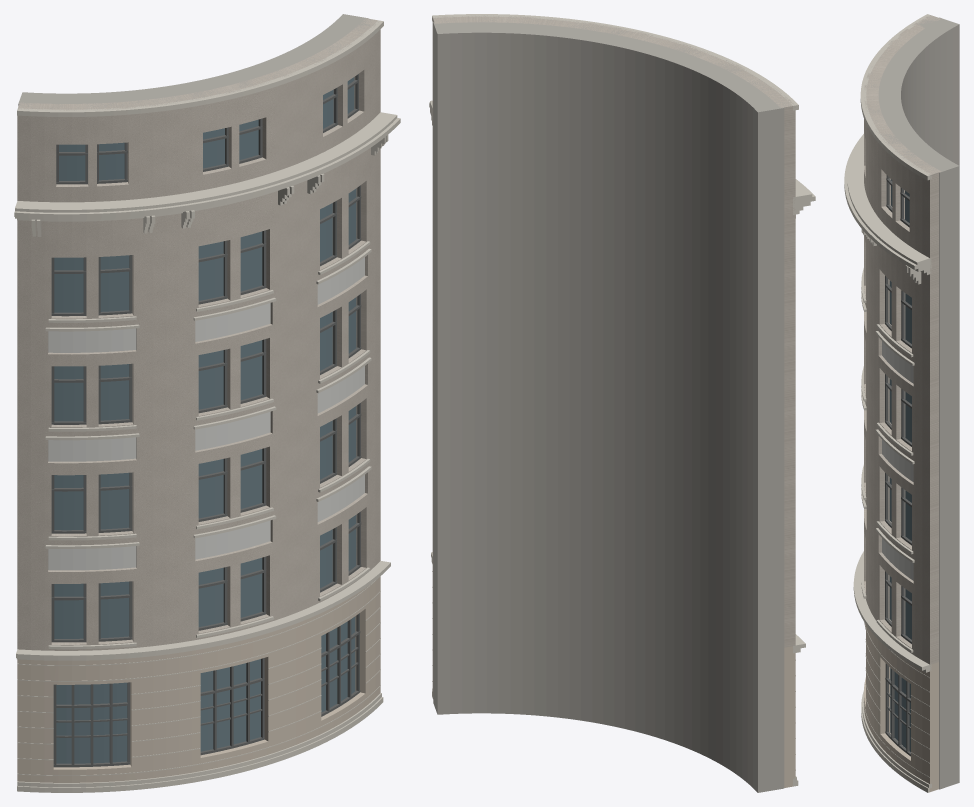
Rendered from huangpu-zhongxing-bank-curved-front-raw.glb.
3 renders of one model, left to right at view 1: azimuth 30°, elevation 25°; view 2: azimuth 150°, elevation 25°; view 3: azimuth 270°, elevation 25°, orthographic. The views are drawn at different scales.
Visible parts, largest first — view 1: 中兴银行前楼（福州路与四川中路圆弧窗墙）; view 2: 中兴银行前楼（福州路与四川中路圆弧窗墙）; view 3: 中兴银行前楼（福州路与四川中路圆弧窗墙）.
Boxes of the visible parts, bbox=[...] form: 中兴银行前楼（福州路与四川中路圆弧窗墙）: bbox=[14, 14, 400, 792]; 中兴银行前楼（福州路与四川中路圆弧窗墙）: bbox=[429, 14, 815, 792]; 中兴银行前楼（福州路与四川中路圆弧窗墙）: bbox=[844, 14, 959, 792].
Bounding box in the file's own units: 12.86 × 21.66 × 3.67.
Materials: 7 (1 with a texture image).
